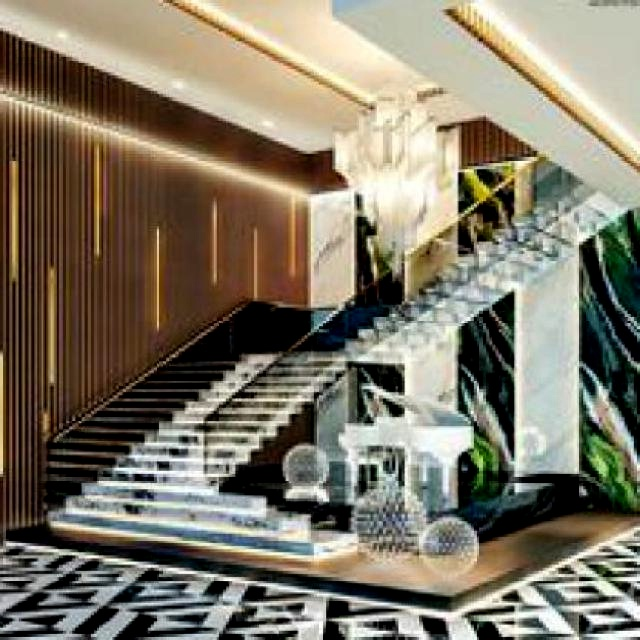stair: (59, 304, 364, 575)
